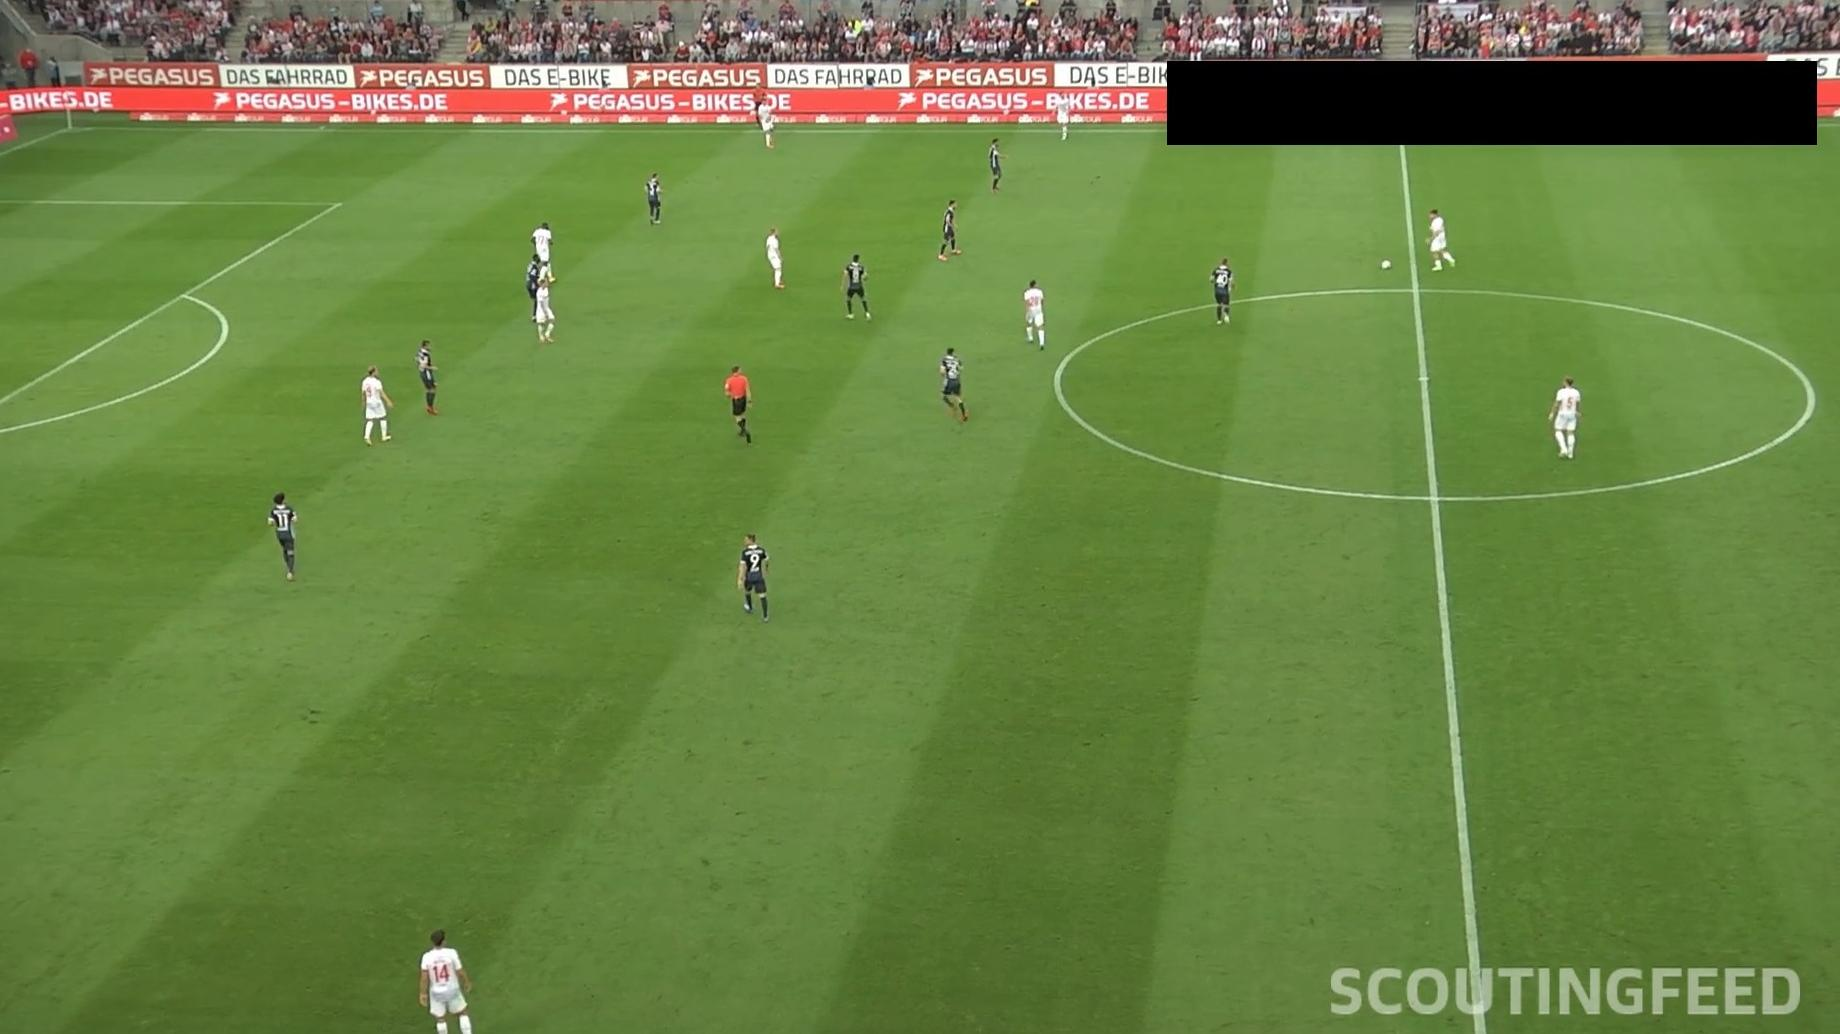ball: (1380, 259, 1393, 271)
